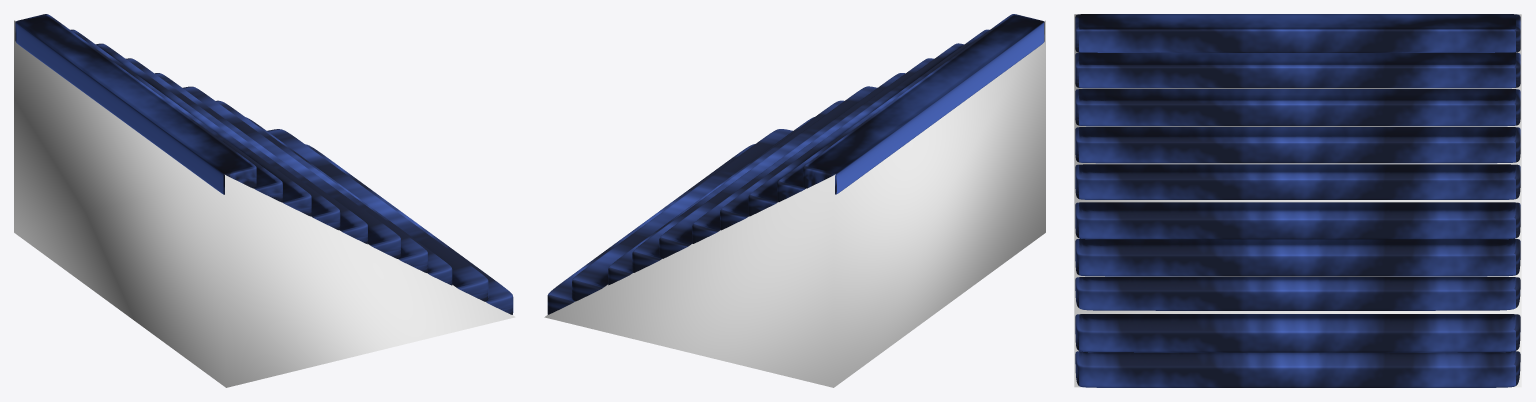
The model's file is Stairsblue.fbx.
The picture shows the model from 3 angles, left to right: view 1: azimuth 30°, elevation 25°; view 2: azimuth 150°, elevation 25°; view 3: azimuth 270°, elevation 25°; orthographic projection. The views are drawn at different scales.
Visible parts, largest first — view 1: Stairs.001, Stairs; view 2: Stairs.001, Stairs; view 3: Stairs, Stairs.001.
Boxes of the visible parts, x1=… form: Stairs.001: x1=14, y1=20, x2=515, y2=387; Stairs: x1=15, y1=14, x2=513, y2=314; Stairs.001: x1=544, y1=20, x2=1045, y2=387; Stairs: x1=547, y1=14, x2=1044, y2=314; Stairs: x1=1075, y1=14, x2=1520, y2=387; Stairs.001: x1=1074, y1=14, x2=1521, y2=387.
Bounding box in the file's own units: 341 × 238 × 429.
1 material, 1 textured.
